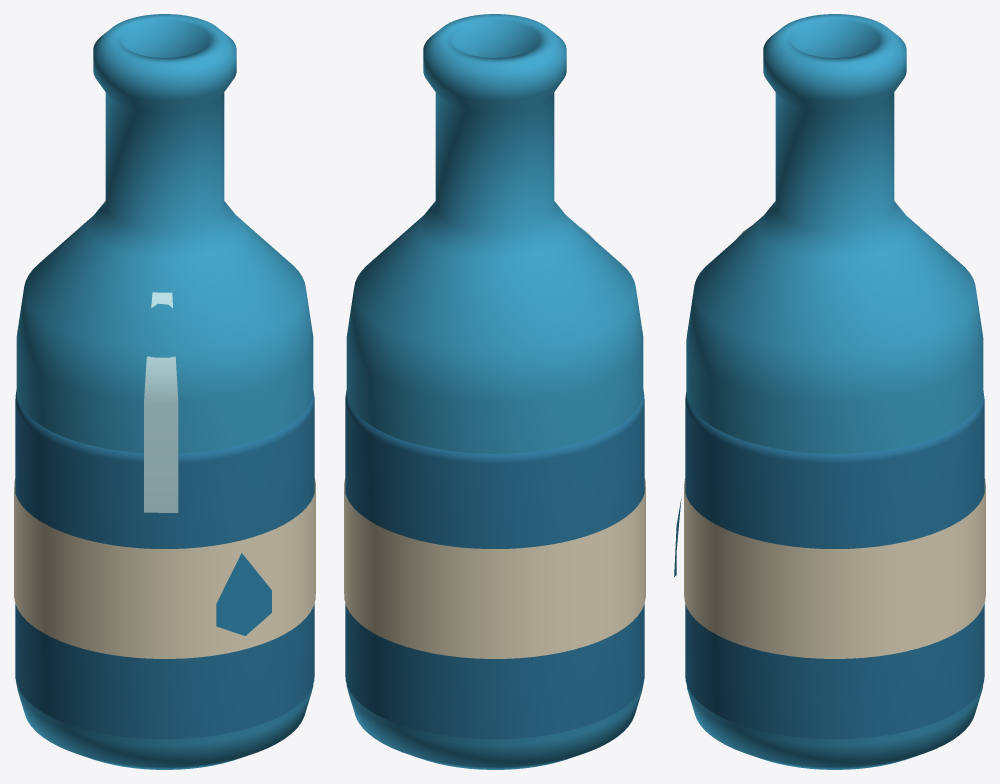
The model's file is garrafa_agua.glb.
3 views of the same model, side by side, from view 1: azimuth 30°, elevation 25°; view 2: azimuth 150°, elevation 25°; view 3: azimuth 270°, elevation 25° (orthographic).
Parts seen in each view (by area): view 1: Garrafa_agua, Agua_visivel, Rotulo, Reflexo_longo, Gota_do_rotulo; view 2: Garrafa_agua, Agua_visivel, Rotulo; view 3: Garrafa_agua, Agua_visivel, Rotulo.
Boxes of the visible parts, left/top/right/bottom form: Garrafa_agua: left=16, top=14, right=313, bottom=769; Agua_visivel: left=15, top=390, right=314, bottom=739; Rotulo: left=14, top=478, right=315, bottom=658; Reflexo_longo: left=144, top=292, right=178, bottom=512; Gota_do_rotulo: left=216, top=553, right=271, bottom=635; Garrafa_agua: left=346, top=14, right=643, bottom=769; Agua_visivel: left=345, top=390, right=644, bottom=739; Rotulo: left=344, top=478, right=645, bottom=658; Garrafa_agua: left=686, top=14, right=983, bottom=769; Agua_visivel: left=685, top=391, right=984, bottom=739; Rotulo: left=684, top=478, right=985, bottom=658.
Size of the model in its own units: 0.122 by 0.304 by 0.126.
